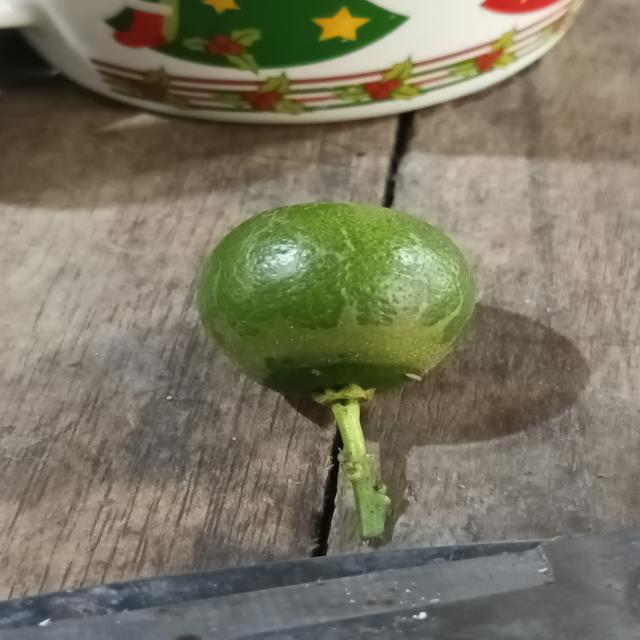thrips: (196, 203, 478, 409)
